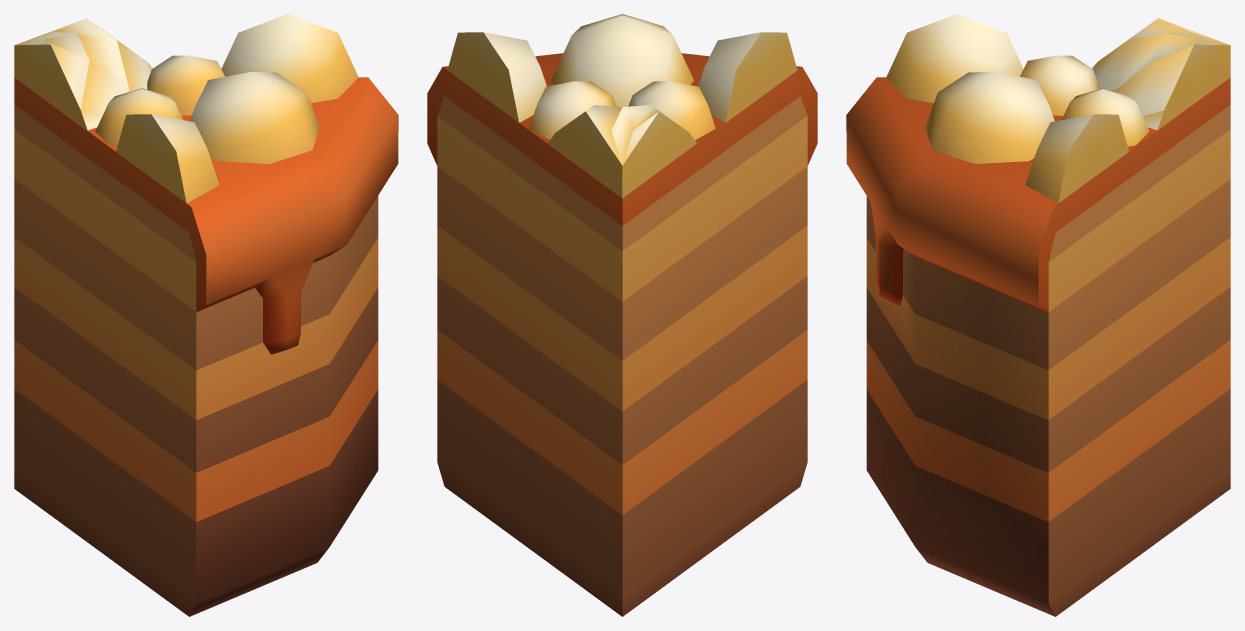
File: m_ToffeeCake01_Slice02.fbx
3 views of the same model, side by side, from view 1: azimuth 30°, elevation 25°; view 2: azimuth 150°, elevation 25°; view 3: azimuth 270°, elevation 25° (orthographic).
Visible parts, largest first — view 1: m_ToffeeCake01_Slice02; view 2: m_ToffeeCake01_Slice02; view 3: m_ToffeeCake01_Slice02.
Part boxes in pixels (left/top/right/bottom): m_ToffeeCake01_Slice02: left=14, top=14, right=398, bottom=616; m_ToffeeCake01_Slice02: left=427, top=14, right=817, bottom=616; m_ToffeeCake01_Slice02: left=846, top=14, right=1230, bottom=616.
Size of the model in its own units: 9.67 by 15.23 by 11.17.
